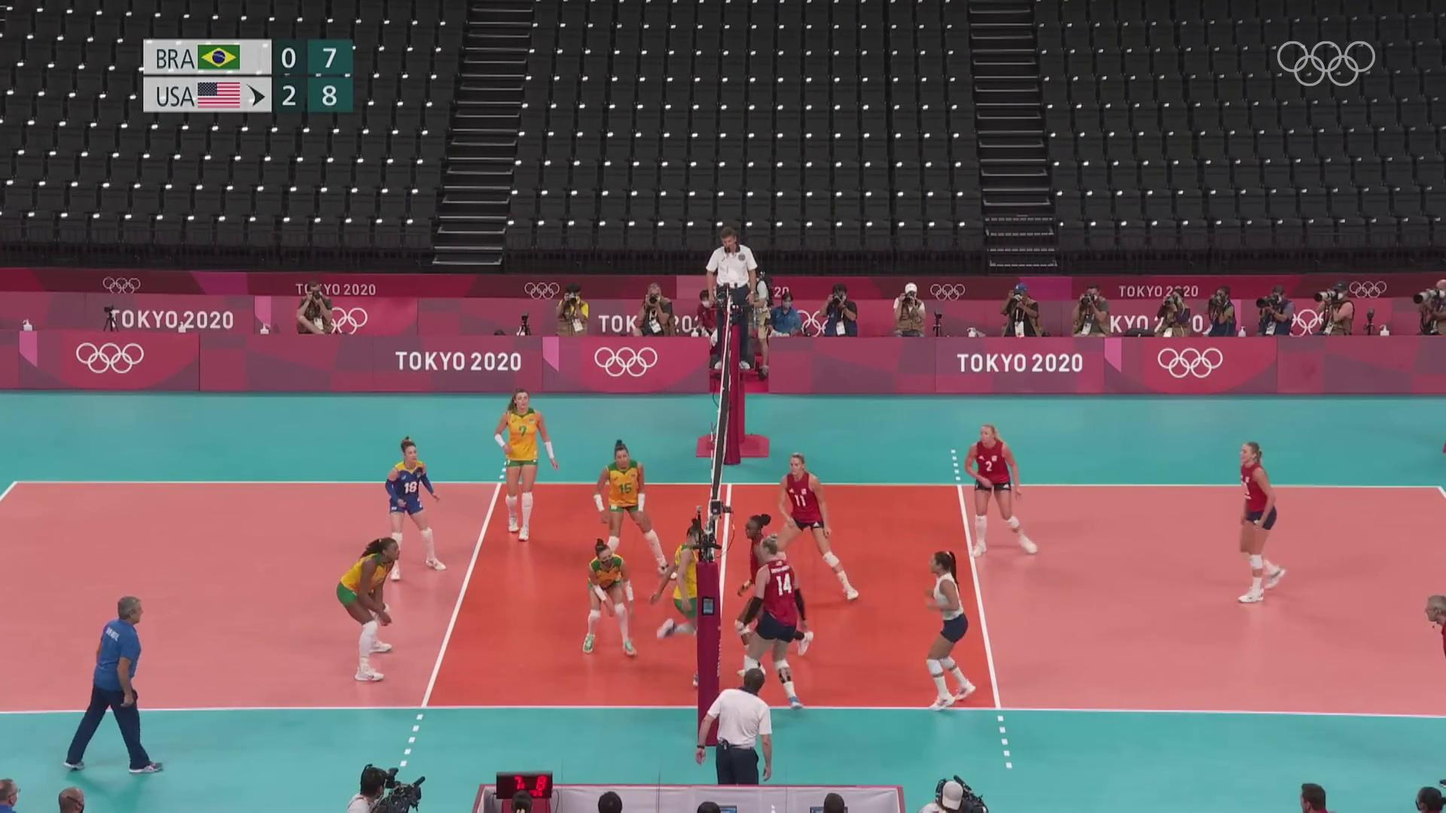player: (777, 450, 863, 600), (739, 540, 811, 712), (737, 514, 813, 673), (592, 437, 675, 575), (648, 521, 717, 687), (489, 387, 557, 544), (332, 537, 403, 684), (380, 437, 451, 582), (960, 423, 1037, 555), (919, 549, 980, 710), (1236, 440, 1287, 598), (577, 542, 637, 656)
refree: (701, 669, 799, 787), (706, 228, 763, 373)
